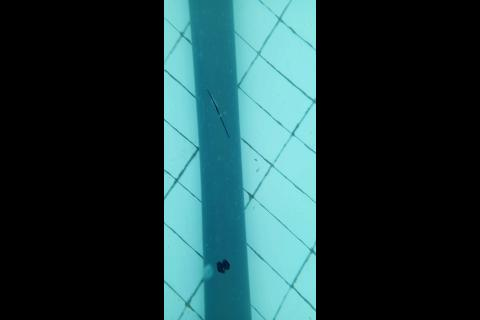kebocoran: (215, 258, 232, 275)
keretakan: (206, 87, 230, 138)
